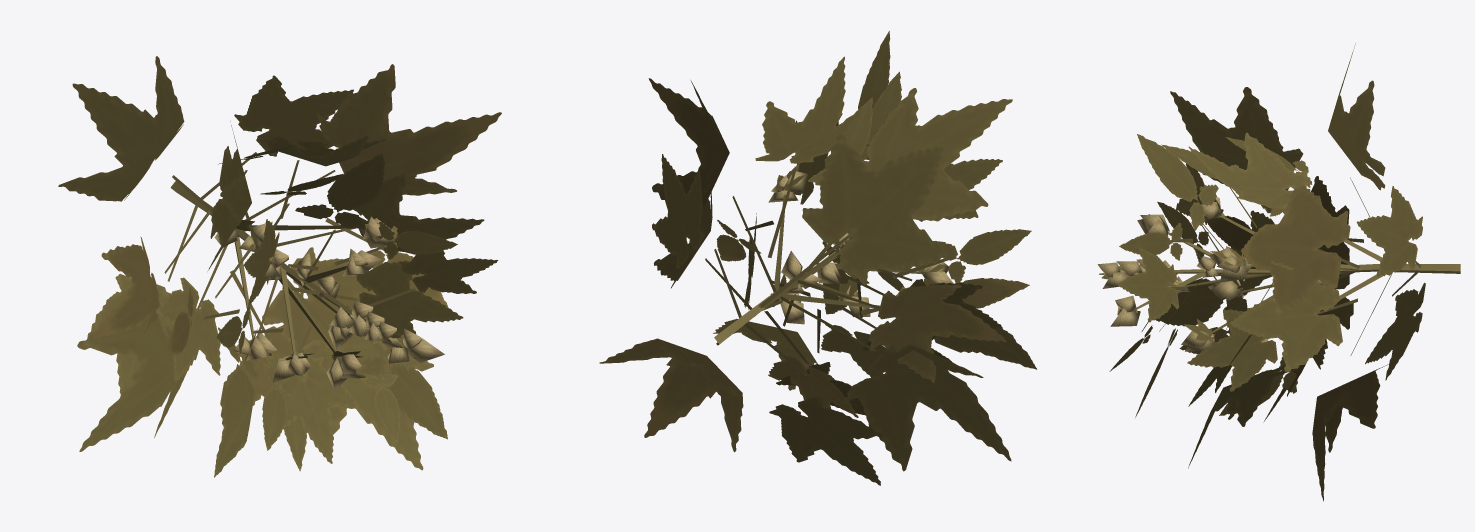
The model's file is p_male_afghan_ripe_c2_cards.obj.
3 renders of one model, left to right at view 1: azimuth 30°, elevation 25°; view 2: azimuth 150°, elevation 25°; view 3: azimuth 270°, elevation 25°, orthographic. The views are drawn at different scales.
Size of the model in its own units: 1.37 by 1.35 by 1.07.
Materials: 1 (1 with a texture image).
